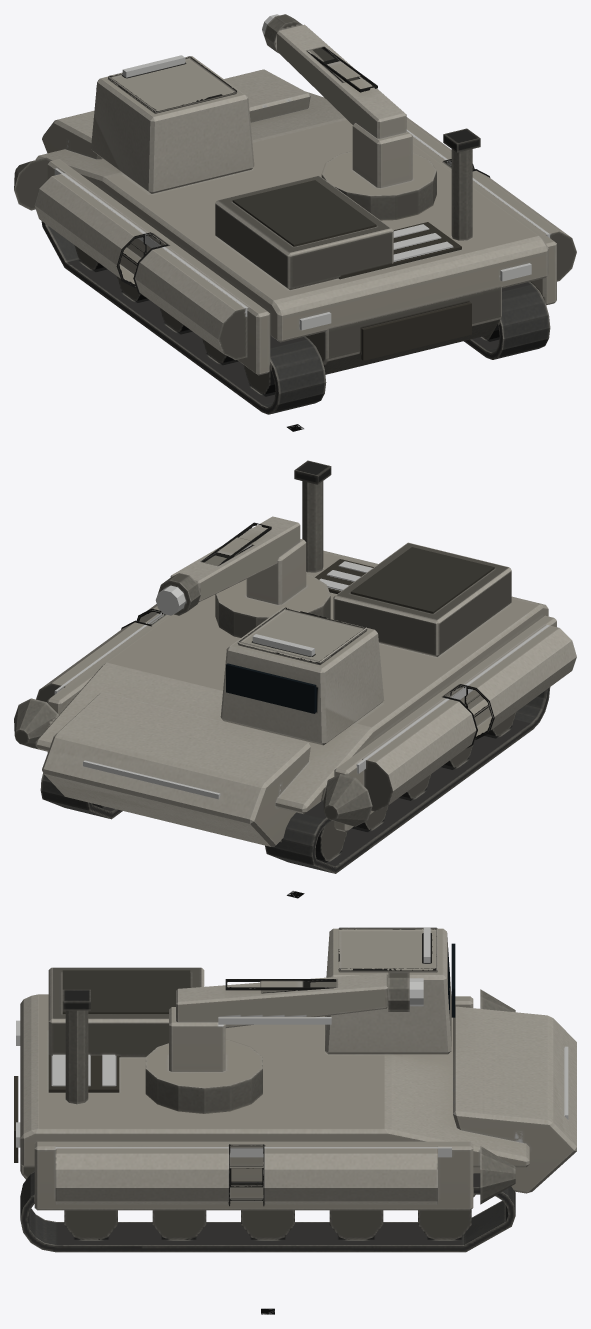
Rendered from ord_pontifex.fbx.
The picture shows the model from 3 angles, top to bottom: view 1: azimuth 30°, elevation 25°; view 2: azimuth 150°, elevation 25°; view 3: azimuth 270°, elevation 25°; orthographic projection. The views are drawn at different scales.
Visible parts, largest first — view 1: base_bar, nano_bar, trackL_bar, trackR_bar, base_glow_running_bar, base_glow_head_bar; view 2: base_bar, nano_bar, trackL_bar, base_glow_running_bar, trackR_bar, nano_glow_power_bar, base_glow_head_bar; view 3: base_bar, trackR_bar, nano_bar, base_glow_running_bar, nano_glow_running_bar.
Part boxes in pixels (x1,y1,x2,y2): base_bar: (14, 56, 576, 375); nano_bar: (264, 14, 436, 220); trackL_bar: (41, 221, 326, 414); trackR_bar: (464, 282, 550, 359); base_glow_running_bar: (54, 129, 549, 330); base_glow_head_bar: (67, 55, 185, 147); base_bar: (14, 460, 576, 846); nano_bar: (158, 516, 330, 637); trackL_bar: (265, 687, 550, 873); base_glow_running_bar: (54, 561, 549, 799); trackR_bar: (40, 773, 122, 819); nano_glow_power_bar: (155, 585, 185, 615); base_glow_head_bar: (252, 634, 314, 794); base_bar: (14, 927, 576, 1210); trackR_bar: (20, 1171, 515, 1252); nano_bar: (145, 972, 409, 1113); base_glow_running_bar: (16, 994, 568, 1157); nano_glow_running_bar: (218, 1017, 331, 1024).
Bounding box in the file's own units: 612 × 567 × 796.
2 materials, 2 textured.
